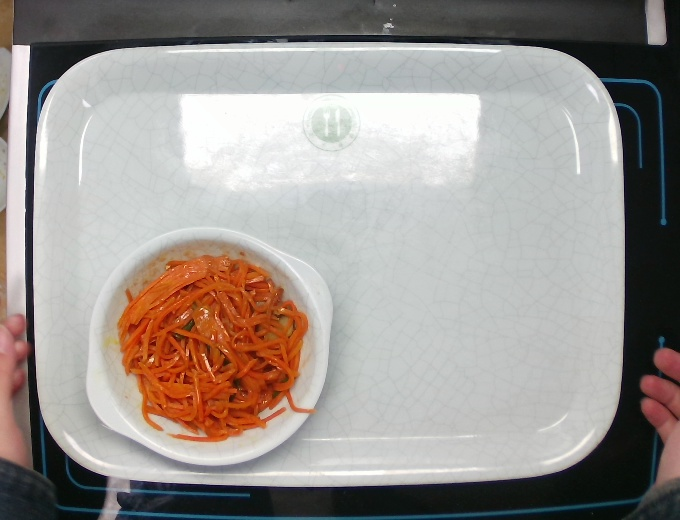JYsf-Shuang_Er_Wan: (81, 218, 336, 466)
